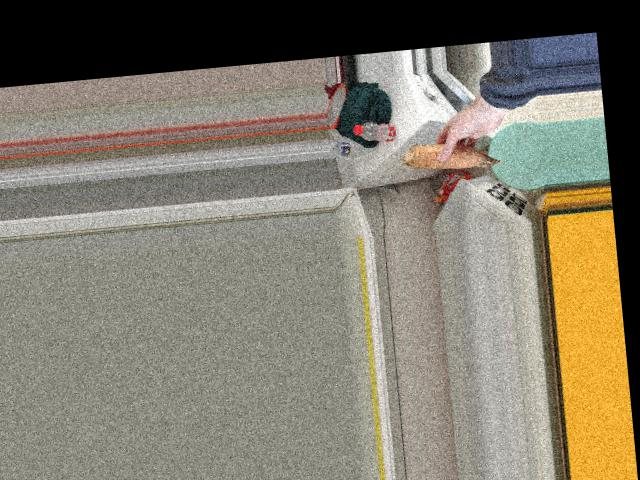sweet_potato: (397, 141, 501, 171)
